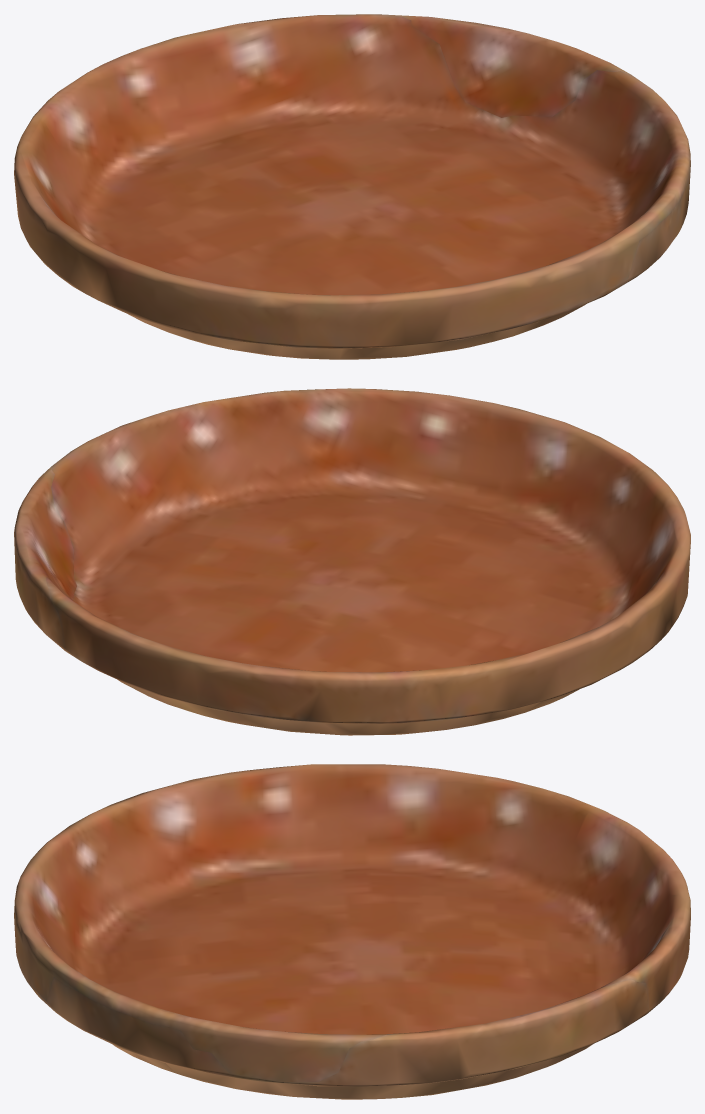
File: Cole_Hardware_Plant_Saucer_Glazed_9-high.glb
The picture shows the model from 3 angles, top to bottom: view 1: azimuth 30°, elevation 25°; view 2: azimuth 150°, elevation 25°; view 3: azimuth 270°, elevation 25°; orthographic projection.
Parts seen in each view (by area): view 1: Cole_Hardware_Plant_Saucer_Glazed_9; view 2: Cole_Hardware_Plant_Saucer_Glazed_9; view 3: Cole_Hardware_Plant_Saucer_Glazed_9.
Part boxes in pixels (x1=…): Cole_Hardware_Plant_Saucer_Glazed_9: x1=14, y1=14, x2=690, y2=359; Cole_Hardware_Plant_Saucer_Glazed_9: x1=14, y1=388, x2=690, y2=735; Cole_Hardware_Plant_Saucer_Glazed_9: x1=14, y1=764, x2=690, y2=1099.
Size of the model in its own units: 0.2286 by 0.037 by 0.2286.
1 material, 1 textured.
